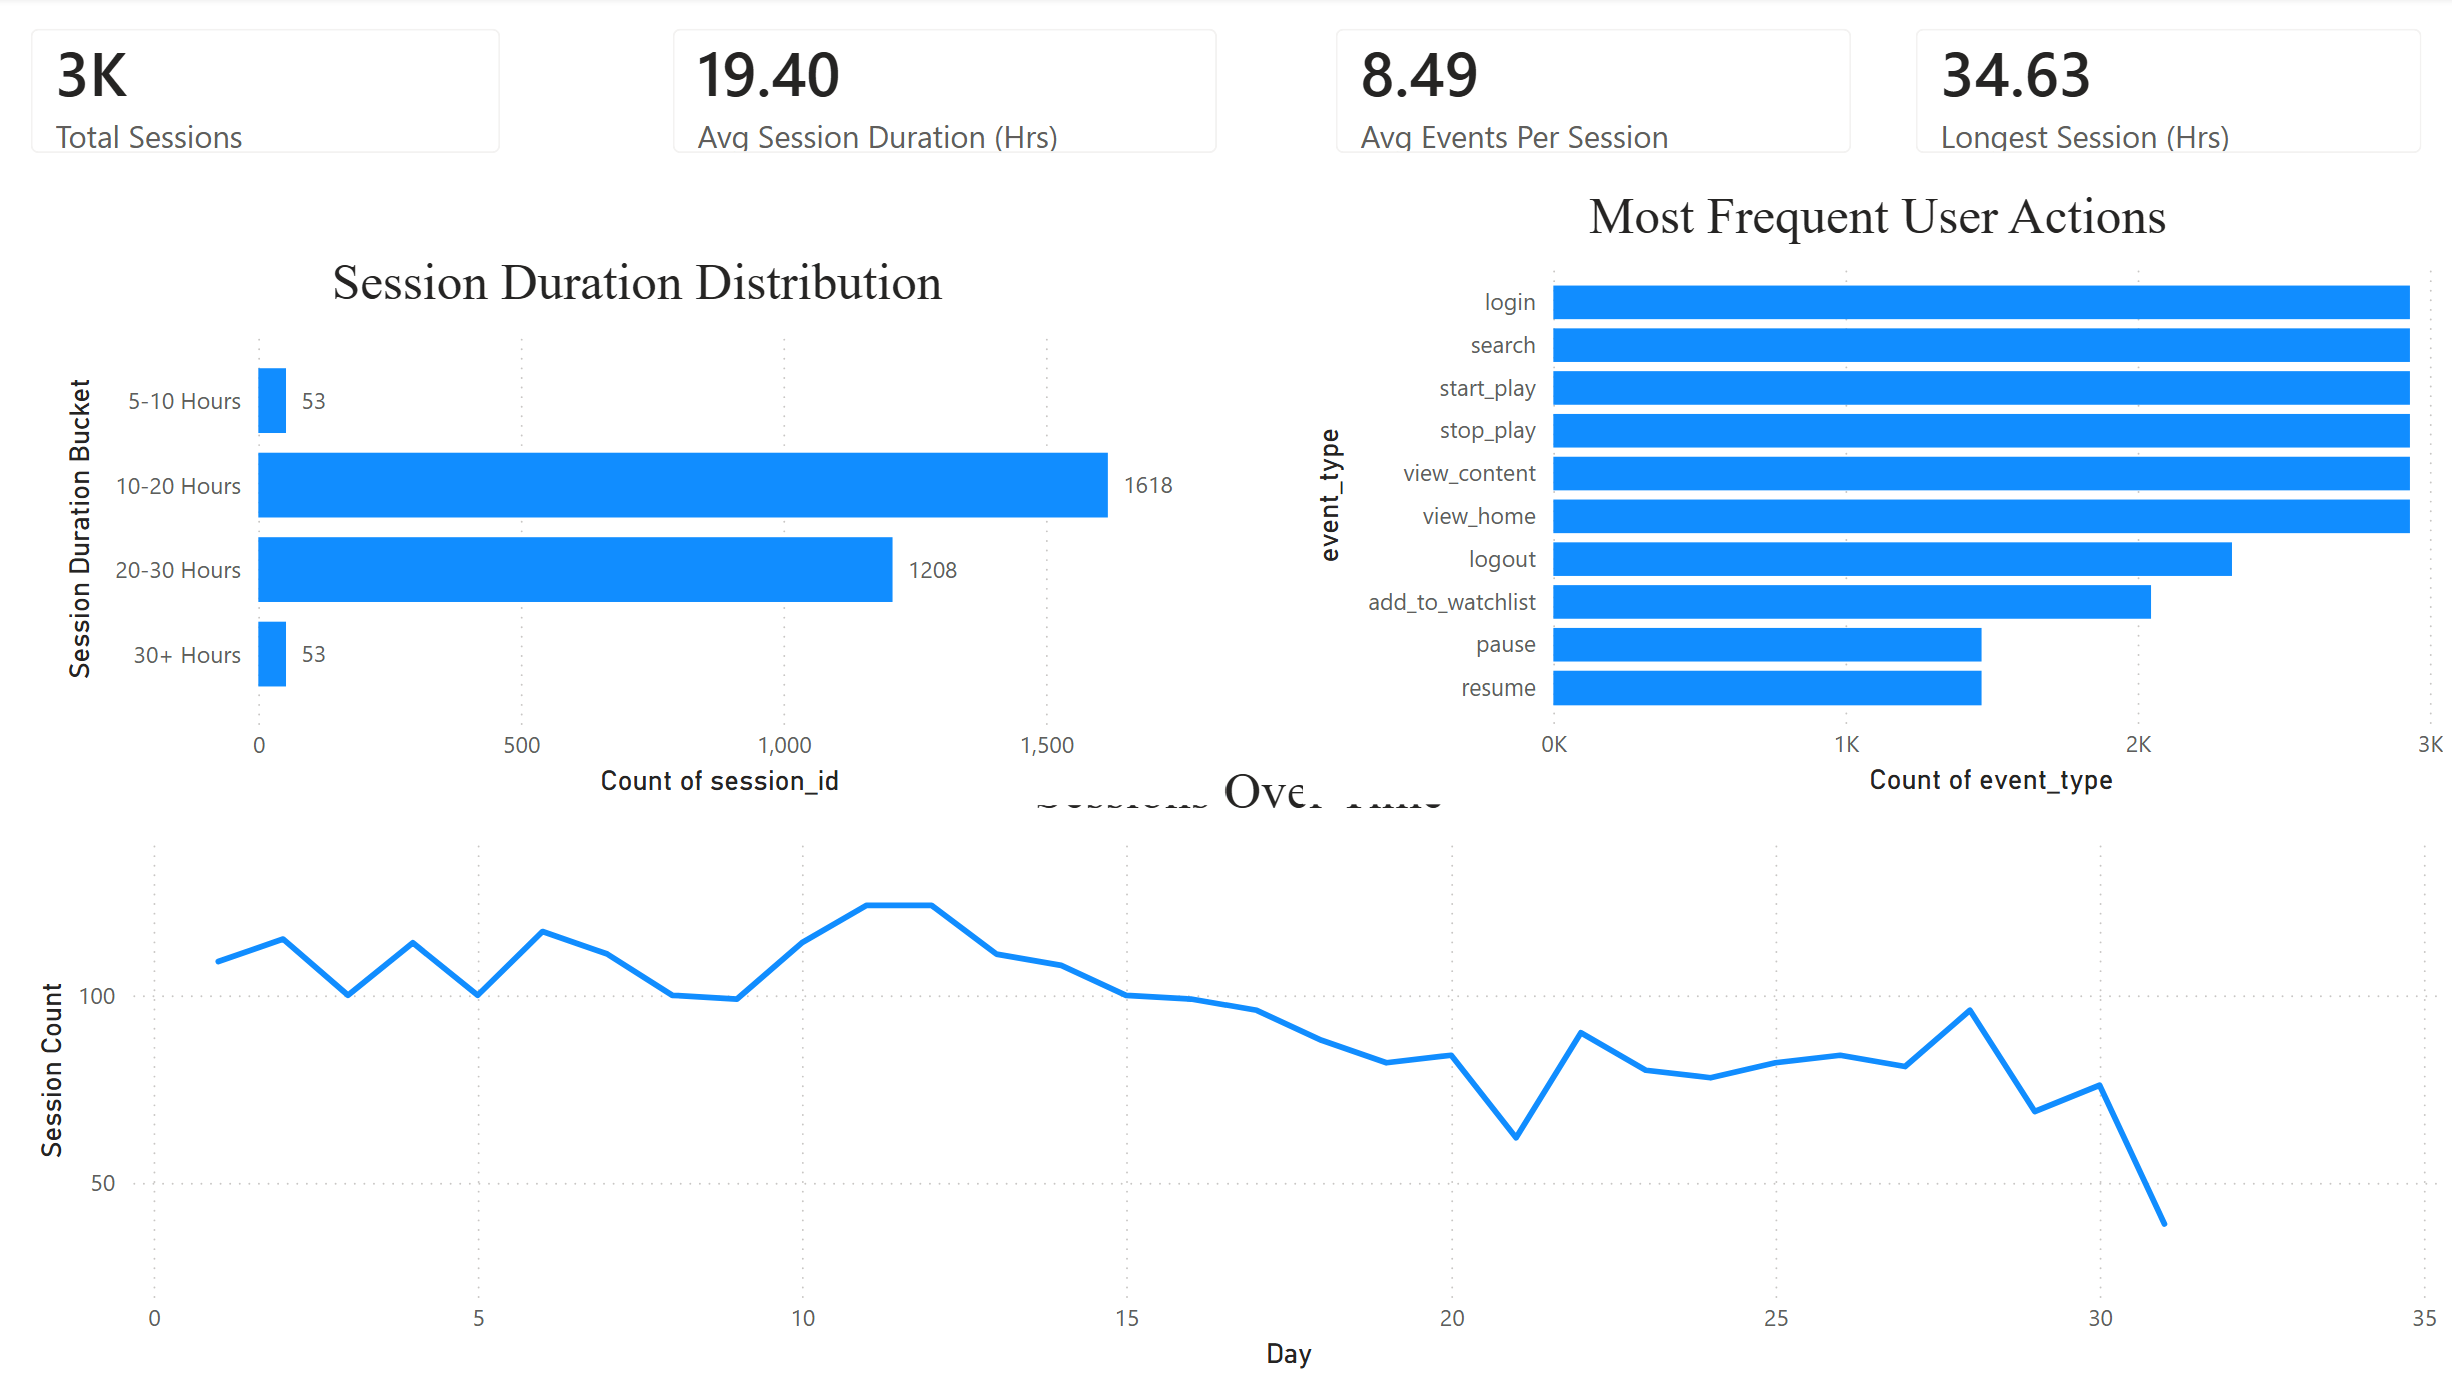

The page's visual inventory and layout, read from the dashboard file:
{"tool":"powerbi","page":{"name":"Session Analytics","canvas":[1280,720],"ordinal":2},"visuals":[{"type":"cardVisual","fields":{"Data":["public fct_user_analytics.Avg Session Duration Hours"]},"box":[334.8,0,318.9,99.6],"z":0},{"type":"cardVisual","fields":{"Data":["Avg(public fct_user_analytics.Avg Events Per Session)"]},"box":[679.7,0,303,99.6],"z":2},{"type":"cardVisual","fields":{"Data":["public fct_user_analytics.Longest Session Hours"]},"box":[982.7,0,298.7,99.6],"z":3},{"type":"cardVisual","fields":{"Data":["Measures (2).Total Sessions"]},"box":[0,0,280,99.6],"z":4},{"type":"lineChart","title":"Sessions Over Time","fields":{"Y":["Count(public fct_user_sessions.session_id)"],"Category":["public fct_user_sessions.session_start.Variation.Date Hierarchy.Year","public fct_user_sessions.session_start.Variation.Date Hierarchy.Quarter","public fct_user_sessions.session_start.Variation.Date Hierarchy.Month","public fct_user_sessions.session_start.Variation.Date Hierarchy.Day"]},"box":[14.8,398.4,1265.2,322.1],"z":5},{"type":"clusteredBarChart","title":"Session Duration Distribution","fields":{"Category":["public fct_user_sessions.Session Duration Bucket"],"Y":["CountNonNull(public fct_user_sessions.session_id)"]},"box":[29.7,133.5,608.2,288.2],"z":6},{"type":"clusteredBarChart","title":"Most Frequent User Actions","fields":{"Category":["public stg_events.event_type"],"Y":["CountNonNull(public stg_events.event_type)"]},"box":[680.3,99.6,599.7,322.1],"z":7}]}

Visuals, with their boxes in screenshot pixels (x1, y1, x2, y2), scaled from the page's 1280x720 canvas onto the 2452x1376 screenshot:
cardVisual - public fct_user_analytics.Avg Session Duration Hours: [641, 0, 1252, 190]
cardVisual - Avg(public fct_user_analytics.Avg Events Per Session): [1302, 0, 1882, 190]
cardVisual - public fct_user_analytics.Longest Session Hours: [1882, 0, 2451, 190]
cardVisual - Measures (2).Total Sessions: [0, 0, 536, 190]
"Sessions Over Time" lineChart: [28, 761, 2451, 1375]
"Session Duration Distribution" clusteredBarChart: [57, 255, 1222, 806]
"Most Frequent User Actions" clusteredBarChart: [1303, 190, 2451, 806]
